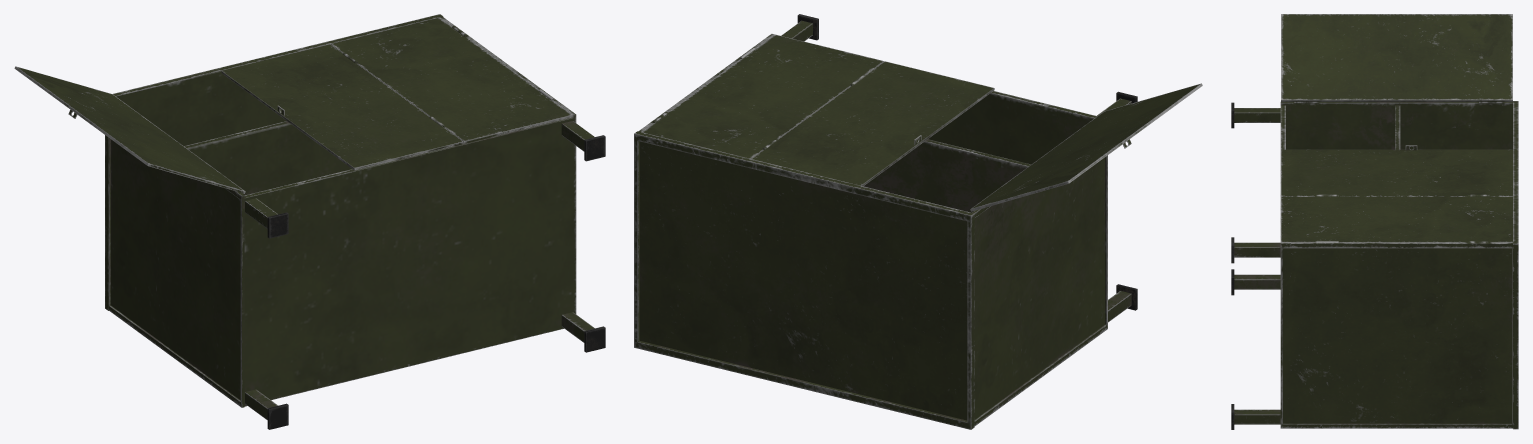
Rendered from metal_box.fbx.
The picture shows the model from 3 angles, left to right: view 1: azimuth 30°, elevation 25°; view 2: azimuth 150°, elevation 25°; view 3: azimuth 270°, elevation 25°; orthographic projection. The views are drawn at different scales.
Parts seen in each view (by area): view 1: metal box; view 2: metal box; view 3: metal box.
Boxes of the visible parts, box(x1,y1,x2,y2) form: metal box: box(14, 14, 605, 429); metal box: box(634, 14, 1202, 429); metal box: box(1231, 14, 1518, 429).
Bounding box in the file's own units: 137 × 81.22 × 90.59.
